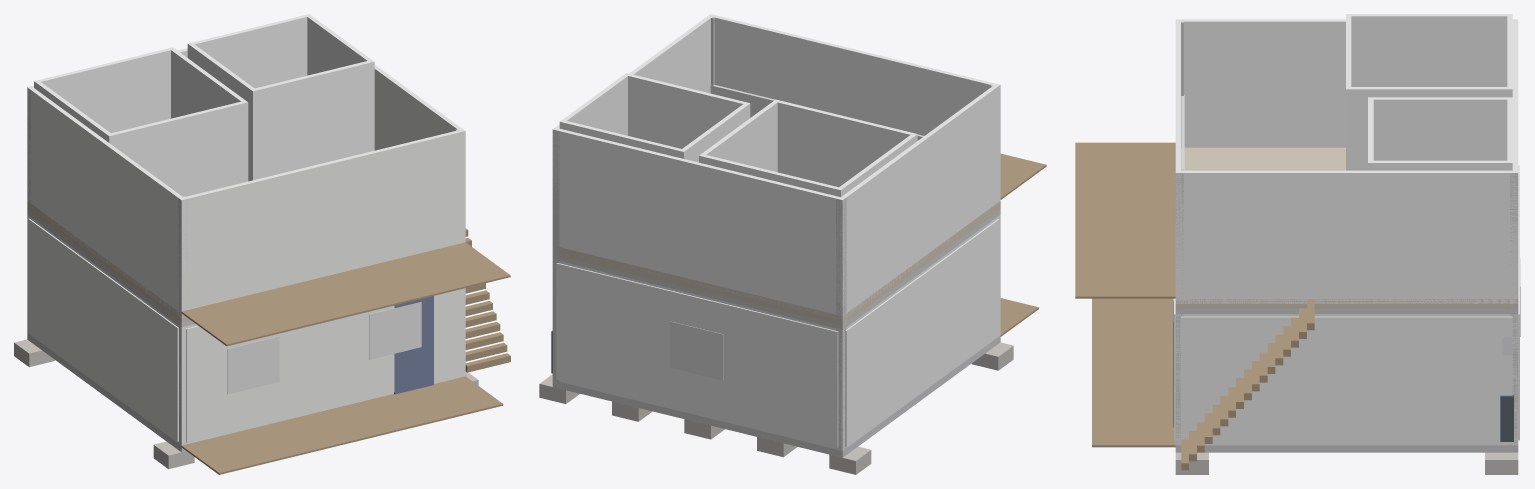
File: Duplex-20-FullSolar-LOD0.glb
3 renders of one model, left to right at view 1: azimuth 30°, elevation 25°; view 2: azimuth 150°, elevation 25°; view 3: azimuth 270°, elevation 25°, orthographic. The views are drawn at different scales.
Visible parts, largest first — view 1: ExteriorShellUpper, ExteriorPanelsStandard, StudyUpper, BedroomUpper, BalconyUpper, BalconyGround, WindowsStandard, StaircaseExternal, ExteriorShell, EntryDoor, FoundationBlocks, FloorUpper (+3 smaller); view 2: ExteriorShellUpper, ExteriorPanelsStandard, BedroomUpper, StudyUpper, FloorUpper, VerticalStructure, FoundationBlocks, BaseFrame, ExteriorShell, WindowsStandard, TopFrame, BalconyUpper (+2 smaller); view 3: ExteriorShellUpper, ExteriorPanelsStandard, BalconyUpper, BedroomUpper, BalconyGround, StudyUpper, FloorUpper, StaircaseExternal, ExteriorShell, BaseFrame, VerticalStructure, TopFrame (+2 smaller).
Boxes of the visible parts, bbox=[...] form: ExteriorShellUpper: bbox=[27, 48, 465, 317]; ExteriorPanelsStandard: bbox=[28, 218, 461, 442]; StudyUpper: bbox=[187, 14, 374, 181]; BedroomUpper: bbox=[34, 47, 248, 196]; BalconyUpper: bbox=[181, 242, 510, 346]; BalconyGround: bbox=[181, 376, 503, 474]; WindowsStandard: bbox=[227, 302, 421, 394]; StaircaseExternal: bbox=[465, 228, 510, 372]; ExteriorShell: bbox=[27, 215, 465, 445]; EntryDoor: bbox=[394, 296, 433, 394]; FoundationBlocks: bbox=[14, 339, 478, 469]; FloorUpper: bbox=[27, 201, 190, 322]; ExteriorShellUpper: bbox=[552, 14, 1000, 318]; ExteriorPanelsStandard: bbox=[556, 219, 999, 447]; BedroomUpper: bbox=[699, 99, 917, 197]; StudyUpper: bbox=[559, 73, 750, 162]; FloorUpper: bbox=[558, 201, 1000, 325]; VerticalStructure: bbox=[552, 17, 998, 449]; FoundationBlocks: bbox=[539, 342, 1013, 474]; BaseFrame: bbox=[552, 335, 1000, 457]; ExteriorShell: bbox=[556, 215, 1000, 450]; WindowsStandard: bbox=[670, 321, 723, 380]; TopFrame: bbox=[555, 210, 1000, 329]; BalconyUpper: bbox=[1000, 153, 1046, 199]; ExteriorShellUpper: bbox=[1175, 19, 1518, 303]; ExteriorPanelsStandard: bbox=[1174, 165, 1519, 443]; BalconyUpper: bbox=[1075, 142, 1175, 298]; BedroomUpper: bbox=[1346, 14, 1512, 170]; BalconyGround: bbox=[1092, 298, 1175, 447]; StudyUpper: bbox=[1368, 97, 1512, 170]; FloorUpper: bbox=[1175, 147, 1518, 308]; StaircaseExternal: bbox=[1181, 299, 1314, 470]; ExteriorShell: bbox=[1175, 314, 1518, 445]; BaseFrame: bbox=[1175, 445, 1518, 452]; VerticalStructure: bbox=[1175, 21, 1518, 445]; TopFrame: bbox=[1175, 309, 1518, 313].
Size of the model in its own units: 7.94 by 6 by 8.
